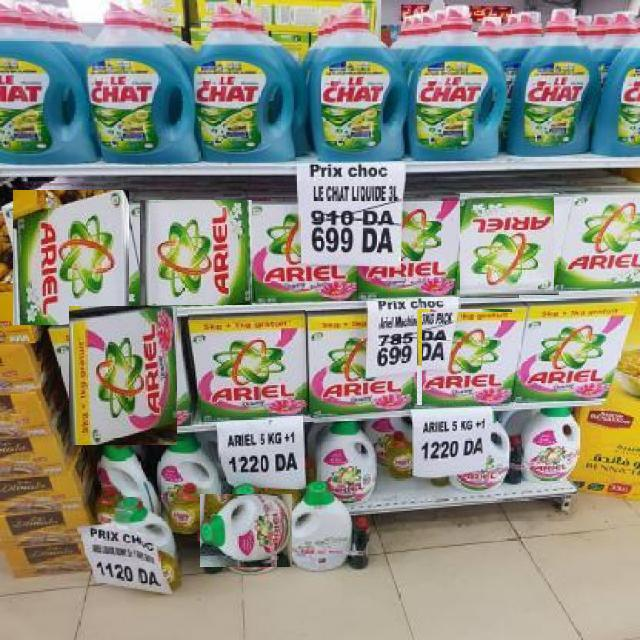Detergent: (12, 190, 129, 325), (69, 306, 176, 445), (188, 311, 314, 423), (305, 306, 412, 418), (140, 199, 252, 305), (519, 295, 622, 402), (459, 192, 559, 298), (418, 309, 515, 405), (310, 322, 407, 413), (422, 313, 516, 405), (554, 194, 638, 292), (200, 493, 292, 567), (315, 414, 382, 505), (522, 405, 583, 486)
